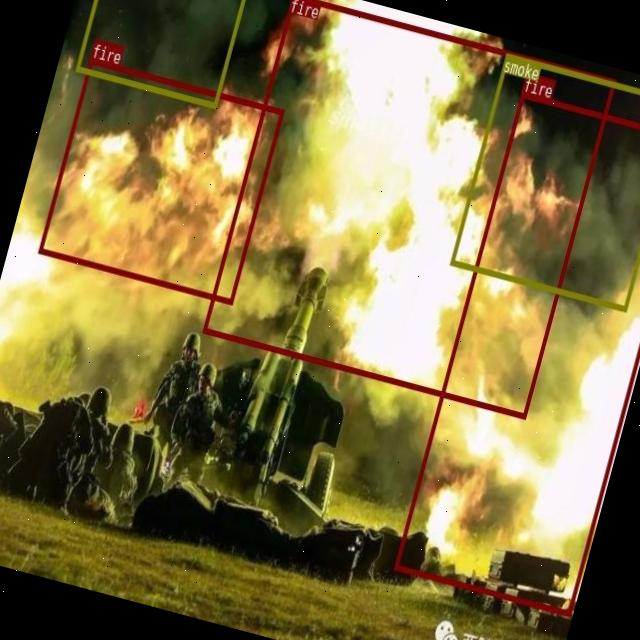fire: (201, 0, 615, 418), (393, 91, 640, 614), (38, 56, 284, 302)
smoke: (449, 52, 640, 311), (74, 0, 248, 107)
